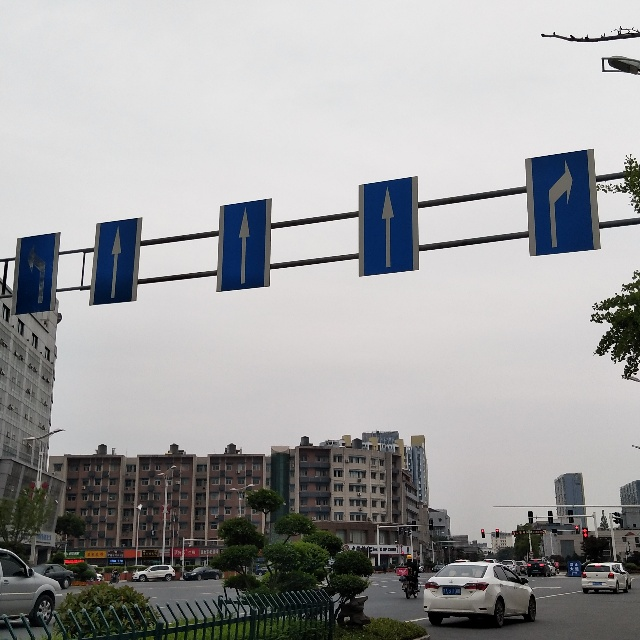left: (16, 233, 53, 311)
right: (533, 155, 587, 244)
straight: (365, 183, 412, 271), (226, 201, 264, 290), (98, 221, 131, 300)
